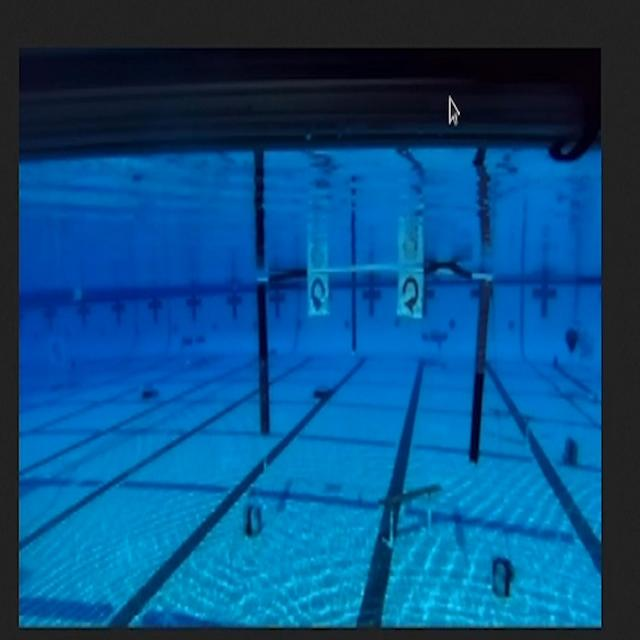Gate: (249, 261, 494, 459)
